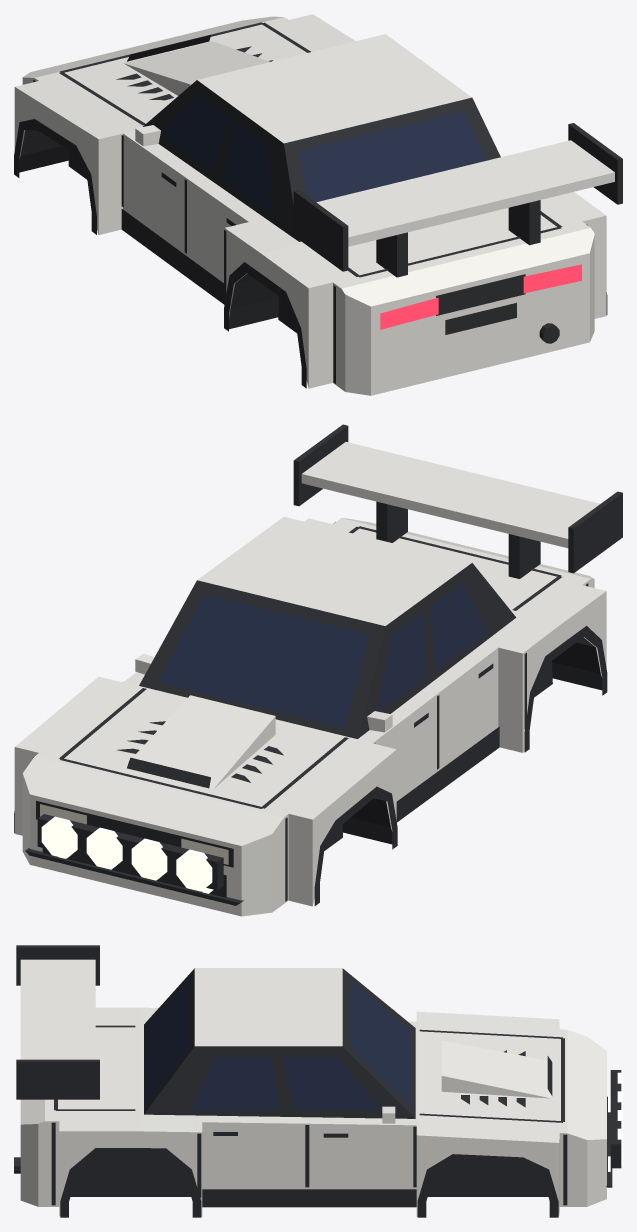
File: Hayate.fbx
3 views of the same model, one above another, from view 1: azimuth 30°, elevation 25°; view 2: azimuth 150°, elevation 25°; view 3: azimuth 270°, elevation 25° (orthographic). The views are drawn at different scales.
Visible parts, largest first — view 1: BumperRear, Roof, Opt_Wing_Rally_WingBlade, Hood, RearWindow, Pillars, Trunk, Door_FL, Opt_Wing_Rally_Wing, Fender_RL, Opt_Hood_Scoop_HoodScoop, Underbody (+18 smaller); view 2: Hood, Windshield, BumperFront, Roof, Opt_Wing_Rally_WingBlade, Pillars, Opt_Hood_Scoop_HoodScoop, Door_RL, Opt_Wing_Rally_Wing, Trunk, Fender_FL, Opt_Bumper_Lamps_RallyLamp (+18 smaller); view 3: Hood, Roof, Pillars, WheelWell, Opt_Wing_Rally_WingBlade, Door_RR, Door_FR, BumperFront, Trunk, Opt_Wing_Rally_Wing, Opt_Hood_Scoop_HoodScoop, Windshield (+13 smaller).
Part boxes in pixels (bbox=[...]): BumperRear: bbox=[337, 225, 594, 395]; Roof: bbox=[197, 34, 471, 143]; Opt_Wing_Rally_WingBlade: bbox=[316, 140, 614, 246]; Hood: bbox=[15, 14, 355, 138]; RearWindow: bbox=[299, 111, 486, 202]; Pillars: bbox=[143, 80, 500, 241]; Trunk: bbox=[262, 192, 605, 288]; Door_FL: bbox=[98, 133, 187, 255]; Opt_Wing_Rally_Wing: bbox=[293, 123, 622, 277]; Fender_RL: bbox=[227, 230, 337, 388]; Opt_Hood_Scoop_HoodScoop: bbox=[123, 41, 270, 95]; Underbody: bbox=[19, 130, 279, 329]; Hood: bbox=[15, 677, 395, 819]; Windshield: bbox=[158, 594, 368, 727]; BumperFront: bbox=[22, 757, 283, 916]; Roof: bbox=[197, 516, 471, 625]; Opt_Wing_Rally_WingBlade: bbox=[301, 442, 599, 548]; Pillars: bbox=[139, 563, 515, 738]; Opt_Hood_Scoop_HoodScoop: bbox=[123, 695, 275, 789]; Door_RL: bbox=[436, 647, 525, 771]; Opt_Wing_Rally_Wing: bbox=[293, 424, 622, 578]; Trunk: bbox=[304, 518, 605, 625]; Fender_FL: bbox=[284, 750, 396, 906]; Opt_Bumper_Lamps_RallyLamp: bbox=[41, 816, 212, 891]; Hood: bbox=[417, 1011, 567, 1142]; Roof: bbox=[194, 968, 342, 1046]; Pillars: bbox=[144, 968, 415, 1118]; WheelWell: bbox=[70, 1156, 548, 1196]; Opt_Wing_Rally_WingBlade: bbox=[20, 959, 95, 1059]; Door_RR: bbox=[197, 1122, 307, 1216]; Door_FR: bbox=[307, 1123, 417, 1216]; BumperFront: bbox=[567, 1030, 606, 1206]; Trunk: bbox=[51, 1007, 139, 1131]; Opt_Wing_Rally_Wing: bbox=[16, 945, 99, 1099]; Opt_Hood_Scoop_HoodScoop: bbox=[441, 1040, 551, 1098]; Windshield: bbox=[350, 980, 410, 1107].
Bounding box in the file's own units: 670 × 379 × 1381.
